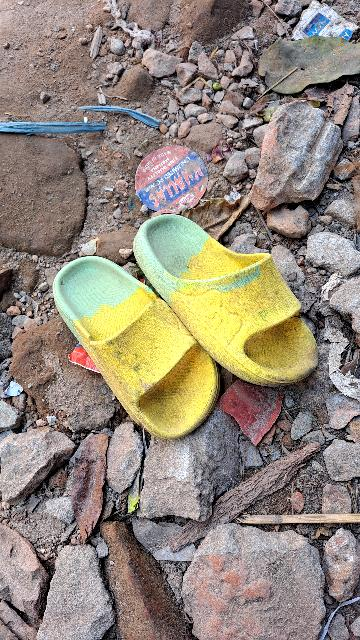sandal: (120, 181, 339, 404), (20, 230, 234, 448)
